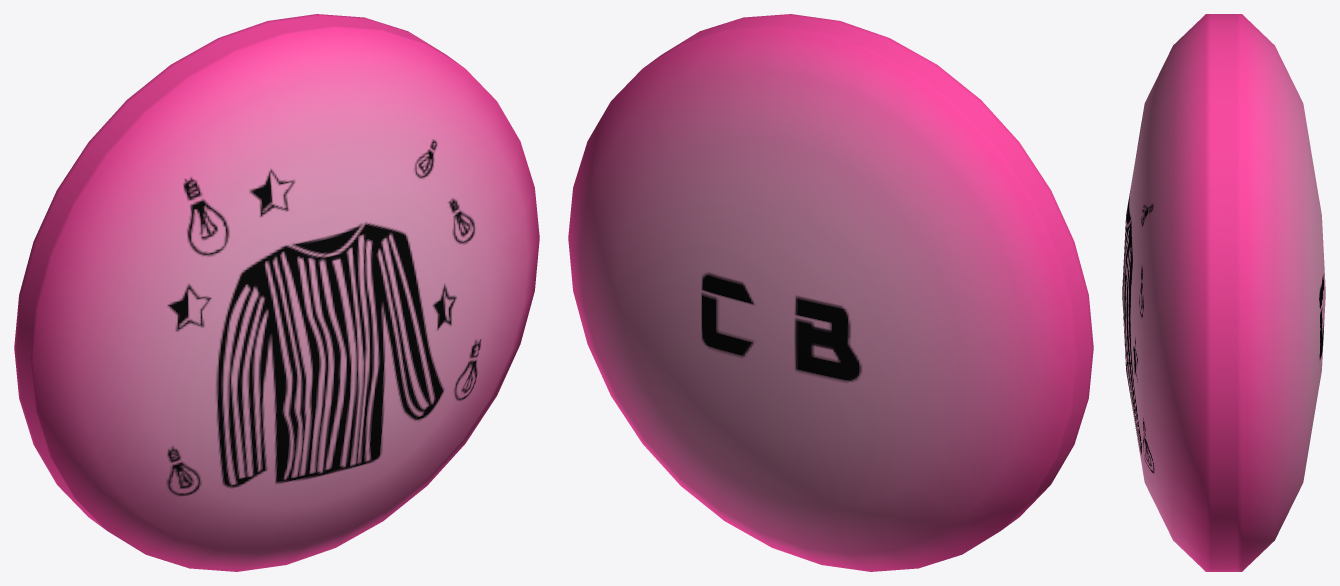
Rendered from Btn_DazzlerStripes.FBX.
3 renders of one model, left to right at view 1: azimuth 30°, elevation 25°; view 2: azimuth 150°, elevation 25°; view 3: azimuth 270°, elevation 25°, orthographic. The views are drawn at different scales.
Parts seen in each view (by area): view 1: Pickup_Button; view 2: Pickup_Button; view 3: Pickup_Button.
Part boxes in pixels (left/top/right/bottom): Pickup_Button: left=14, top=14, right=539, bottom=571; Pickup_Button: left=568, top=14, right=1093, bottom=571; Pickup_Button: left=1122, top=14, right=1325, bottom=571.
Bounding box in the file's own units: 65.32 × 65.32 × 23.82.
